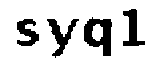1: (119, 6, 147, 49)
q: (82, 17, 115, 60)
s: (13, 18, 39, 49)
y: (42, 17, 77, 60)
